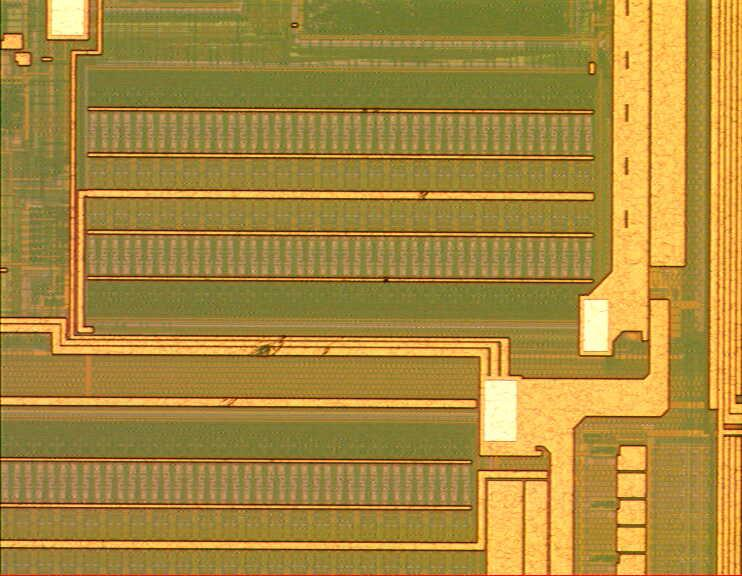PIQ PARTICLE: (220, 100, 436, 413)
